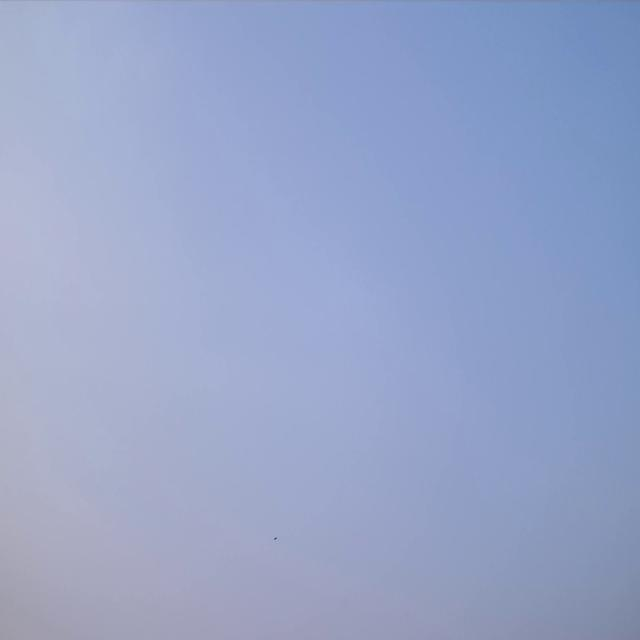UAV: (273, 536, 277, 540)
